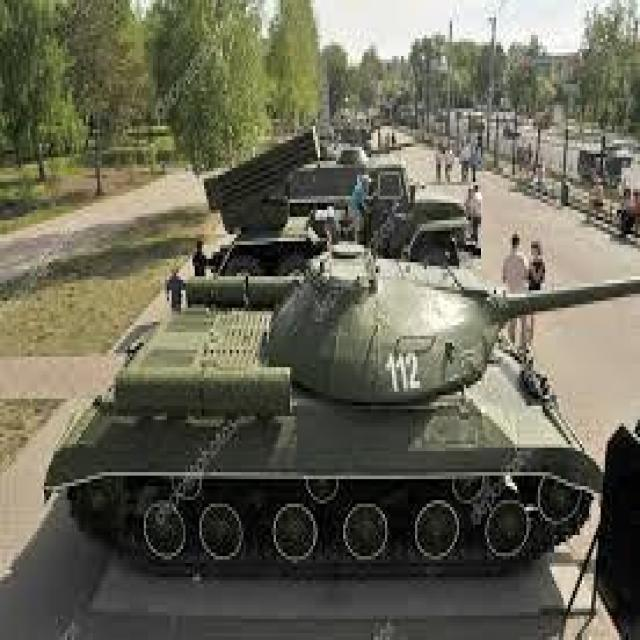Tanks: (52, 248, 597, 570)
